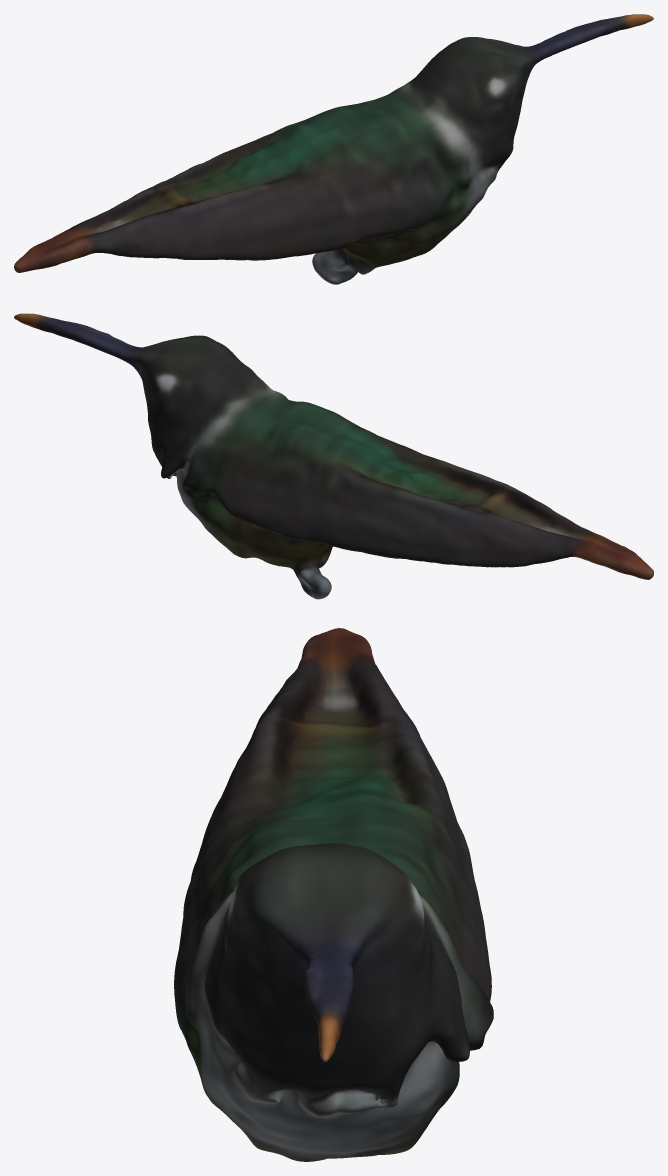
The model's file is bbfb9b235202_hummingbird__3d_asset_0_glb.glb.
3 views of the same model, one above another, from view 1: azimuth 30°, elevation 25°; view 2: azimuth 150°, elevation 25°; view 3: azimuth 270°, elevation 25° (orthographic). The views are drawn at different scales.
Parts seen in each view (by area): view 1: world; view 2: world; view 3: world.
Part boxes in pixels (x1,y1,x2,y2): world: (14,14,653,284); world: (14,313,653,599); world: (174,628,493,1161).
Size of the model in its own units: 0.5814 by 0.1847 by 0.1266.
1 material, 1 textured.
